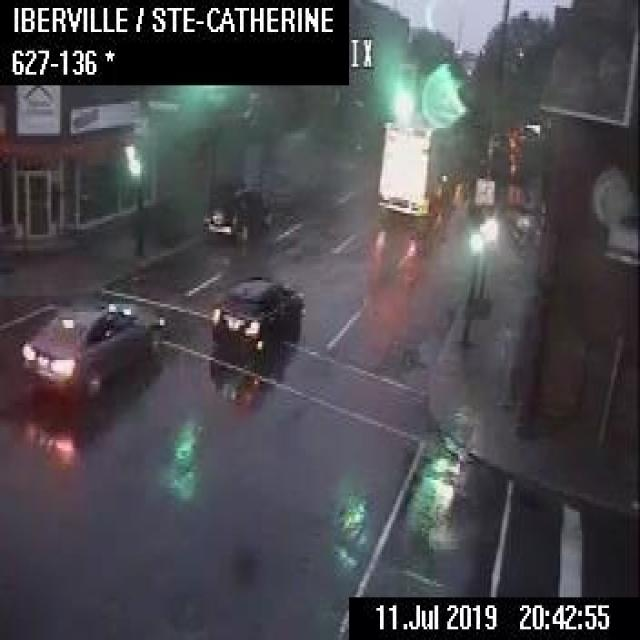vehicle: (15, 299, 164, 400), (377, 109, 468, 228), (211, 274, 305, 354), (202, 182, 269, 238)
